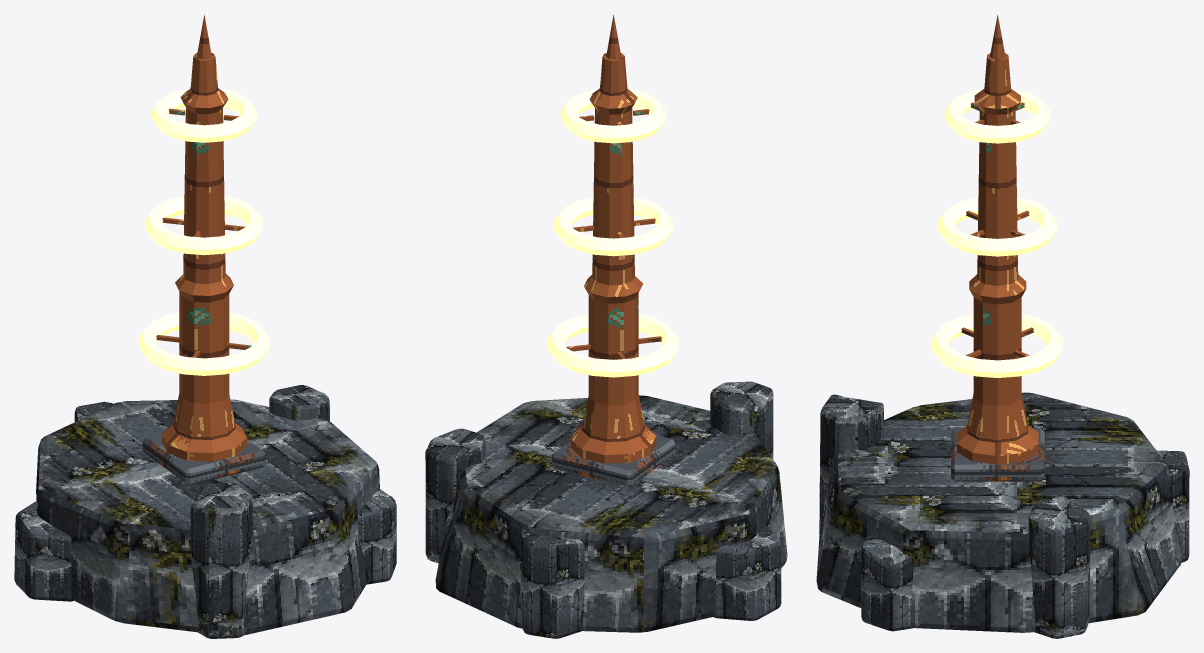
File: storm_rod.glb
3 views of the same model, side by side, from view 1: azimuth 30°, elevation 25°; view 2: azimuth 150°, elevation 25°; view 3: azimuth 270°, elevation 25° (orthographic).
Parts seen in each view (by area): view 1: Islet, Mast, Charge0, Charge1, Charge2, Spokes; view 2: Islet, Mast, Charge0, Charge1, Charge2, Spokes; view 3: Islet, Mast, Charge0, Charge1, Charge2, Spokes.
Boxes of the visible parts, x1,y1,x2,y2 form: Islet: (14, 385, 396, 638); Mast: (162, 53, 246, 461); Charge0: (139, 312, 269, 375); Charge1: (145, 196, 263, 255); Charge2: (151, 88, 256, 142); Spokes: (156, 108, 251, 357); Islet: (425, 381, 787, 638); Mast: (571, 53, 656, 463); Charge0: (548, 313, 679, 377); Charge1: (554, 197, 672, 256); Charge2: (560, 89, 666, 143); Spokes: (566, 109, 661, 359); Islet: (816, 392, 1189, 638); Mast: (956, 53, 1038, 464); Charge0: (932, 313, 1063, 377); Charge1: (938, 197, 1057, 256); Charge2: (944, 89, 1050, 143); Spokes: (961, 102, 1033, 357).
Bounding box in the file's own units: 4.04 × 6.5 × 3.99.
6 materials, 3 textured.
